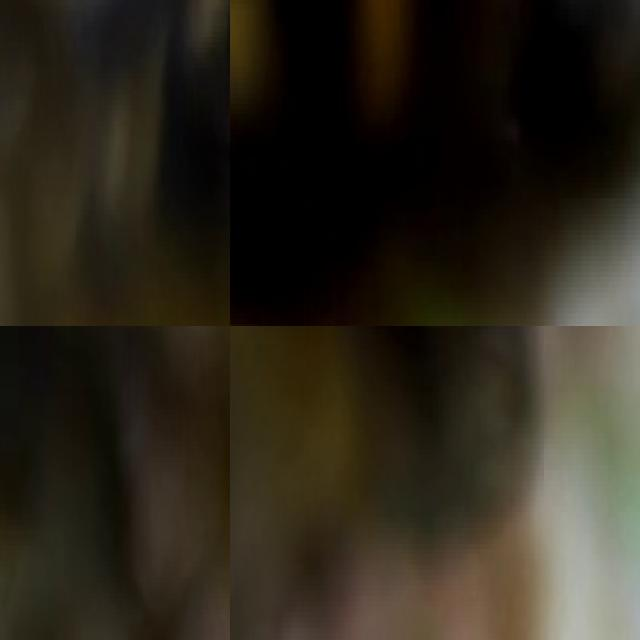fish: (230, 0, 640, 326), (0, 0, 230, 326), (30, 326, 230, 640)
